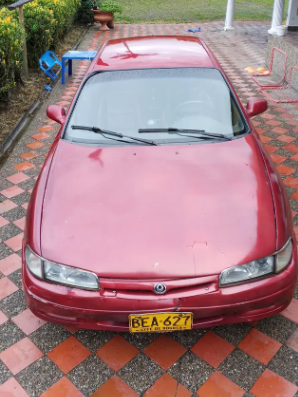placa: (127, 313, 197, 334)
